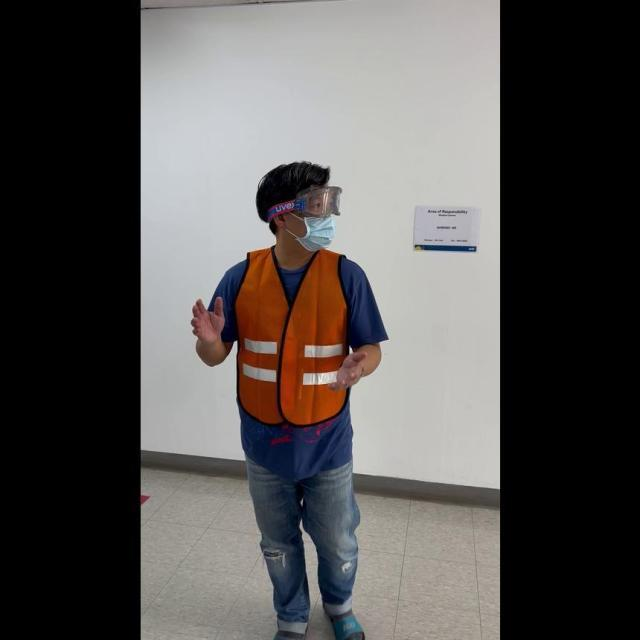bare_hand: (328, 343, 368, 392), (188, 292, 224, 345)
